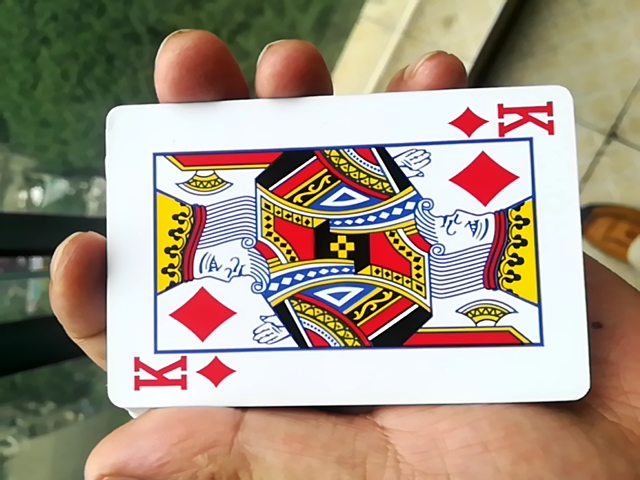fk k: (94, 95, 585, 415)
